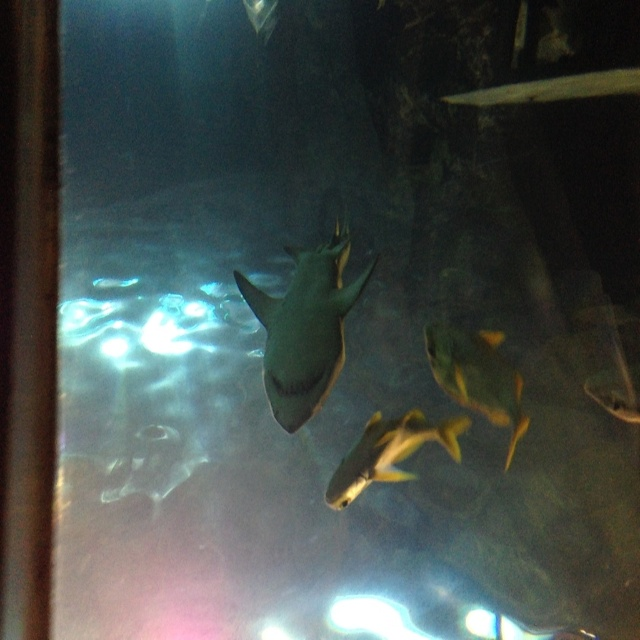Shark: (232, 210, 389, 435)
